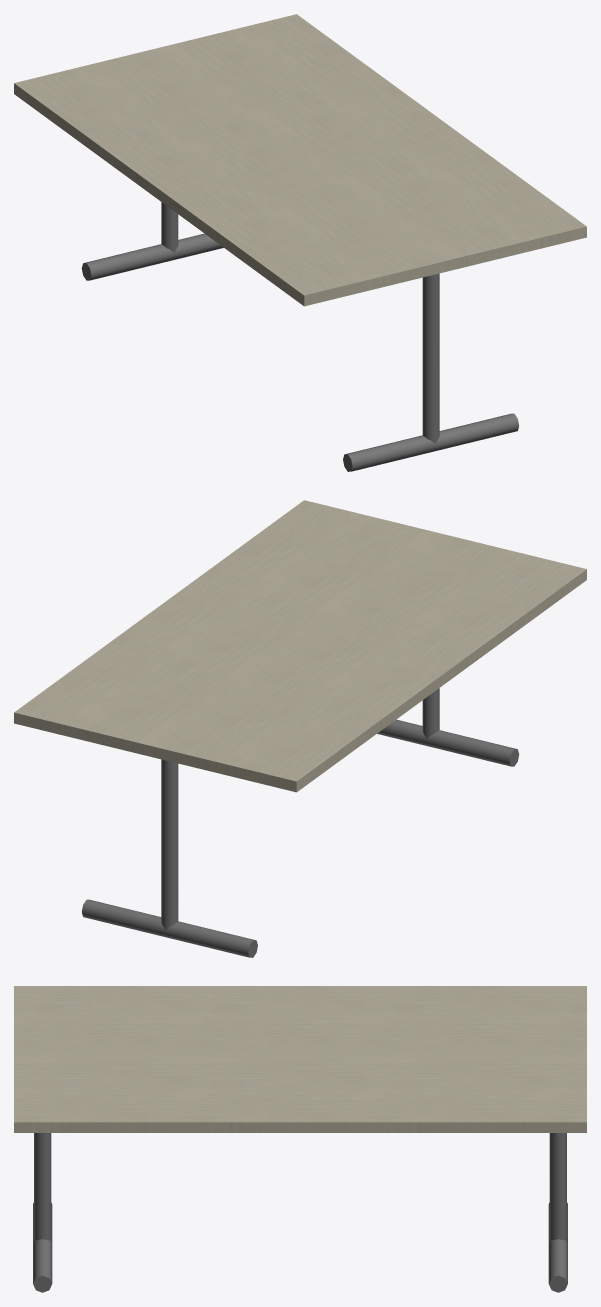
File: BigTable.glb
The picture shows the model from 3 angles, top to bottom: view 1: azimuth 30°, elevation 25°; view 2: azimuth 150°, elevation 25°; view 3: azimuth 270°, elevation 25°; orthographic projection.
Parts seen in each view (by area): view 1: BigTable; view 2: BigTable; view 3: BigTable.
Boxes of the visible parts, box(x1,y1,x2,y2) form: BigTable: box(14, 14, 586, 471); BigTable: box(14, 500, 586, 957); BigTable: box(14, 986, 586, 1292).
Size of what is drawn, in the model's own units: 0.9 by 0.6115 by 1.6.
2 materials, 1 textured.
